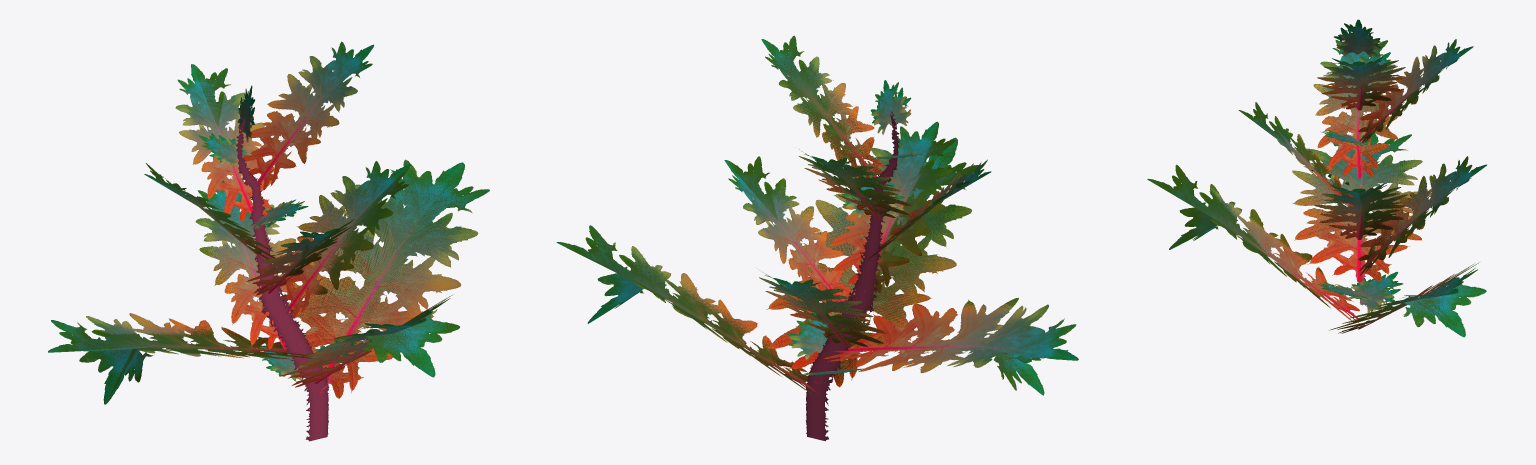
File: Foil Leaf 1.fbx
The picture shows the model from 3 angles, left to right: view 1: azimuth 30°, elevation 25°; view 2: azimuth 150°, elevation 25°; view 3: azimuth 270°, elevation 25°; orthographic projection. The views are drawn at different scales.
Visible parts, largest first — view 1: Foil Leaf 1; view 2: Foil Leaf 1; view 3: Foil Leaf 1.
Part boxes in pixels (<box>): Foil Leaf 1: <box>48,41,489,441</box>; Foil Leaf 1: <box>556,35,1078,441</box>; Foil Leaf 1: <box>1147,19,1486,337</box>.
Size of the model in its own units: 117 by 88.54 by 88.07.
